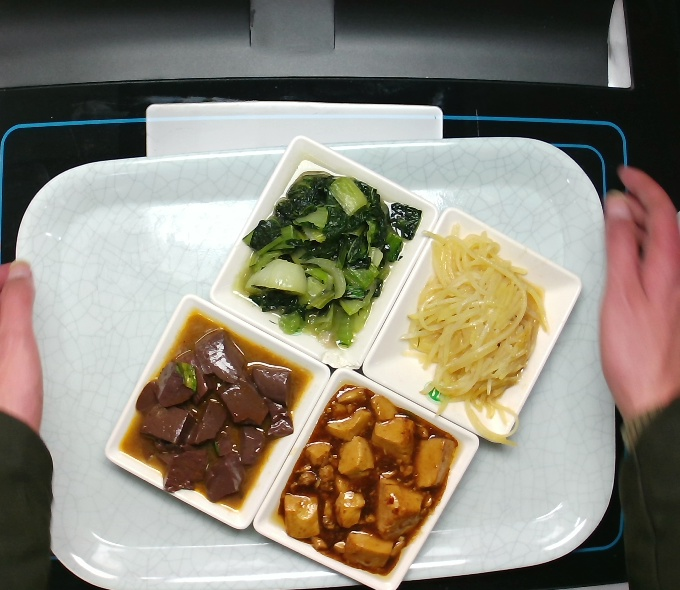wcq-MaPoDouFu: (277, 384, 456, 581)
wcq-NiuXue: (129, 331, 297, 508)
wcq-TuDouSi: (404, 220, 549, 421)
wcq-YouDongCai: (233, 166, 414, 350)
